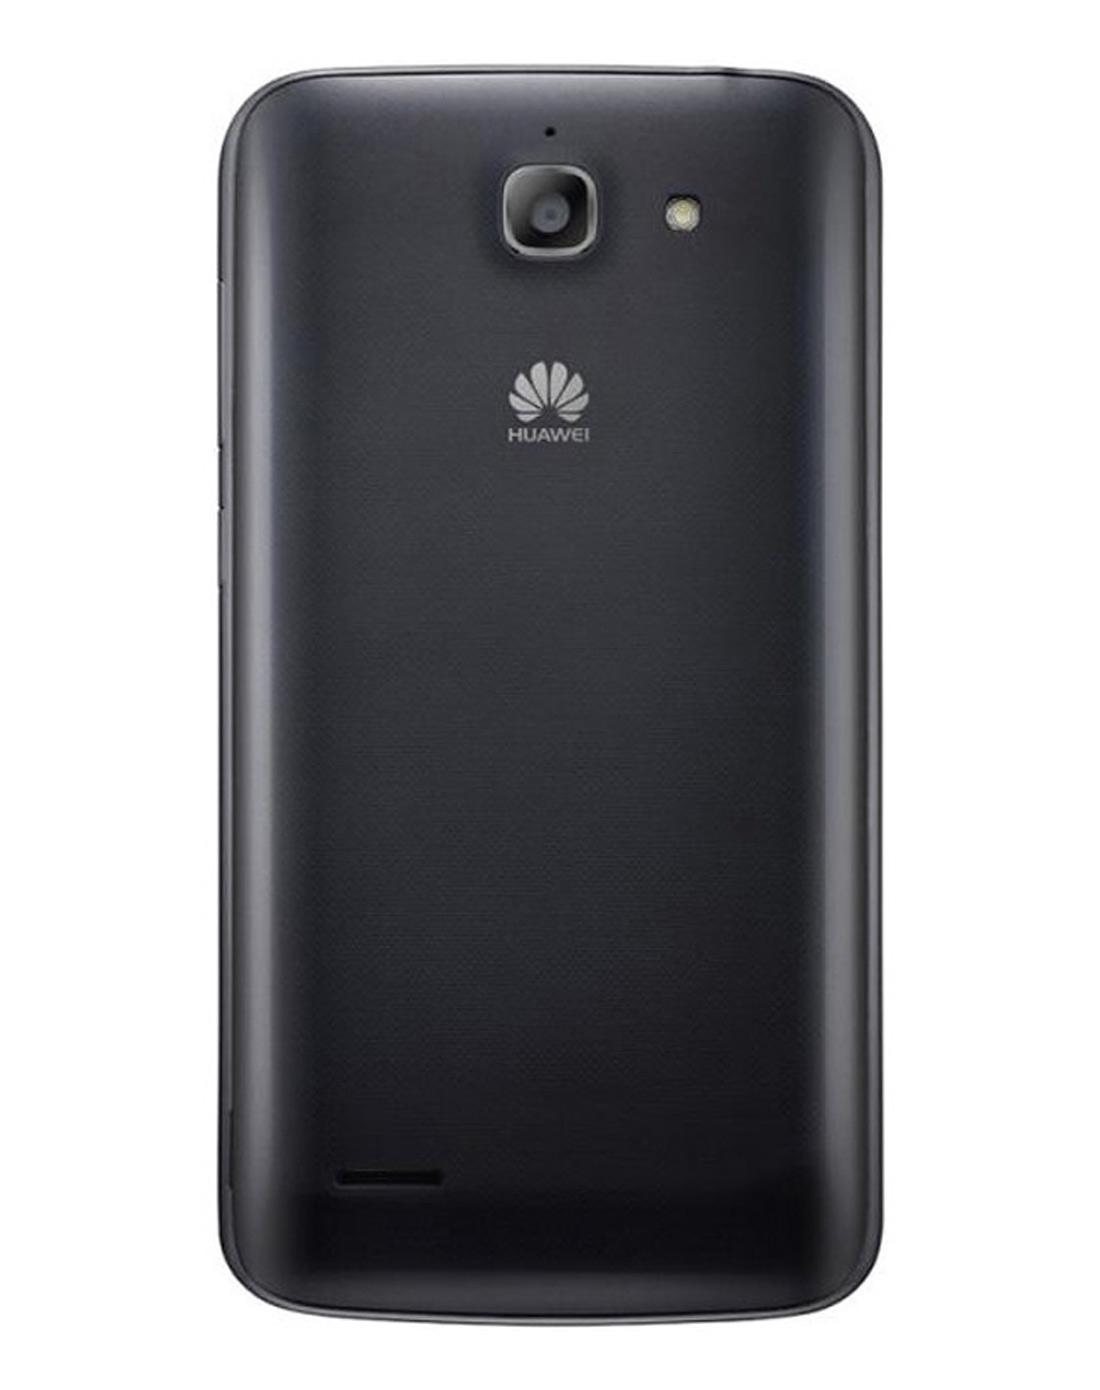phone: (209, 63, 885, 1322)
